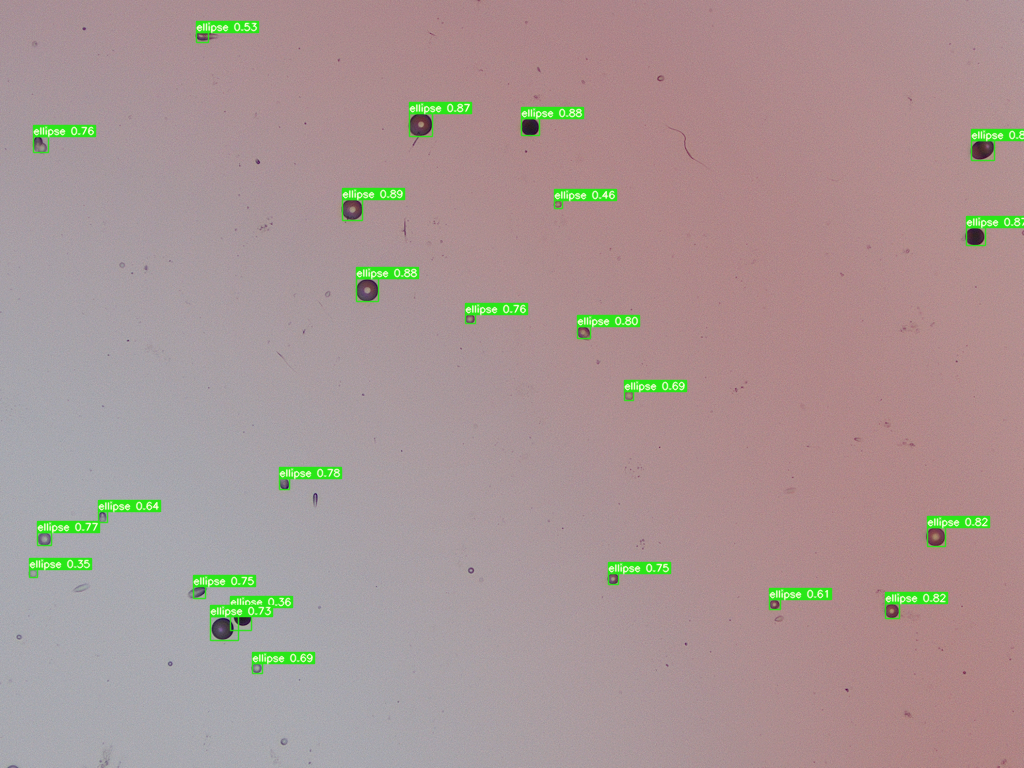circle: (408, 112, 431, 136), (355, 279, 377, 301), (212, 618, 232, 639), (342, 199, 362, 219), (926, 527, 944, 545), (233, 607, 251, 625), (966, 227, 983, 245), (521, 118, 538, 135), (884, 603, 898, 618), (37, 532, 51, 545), (607, 573, 618, 584), (623, 390, 634, 400), (769, 599, 779, 609), (251, 663, 261, 672), (465, 314, 474, 323), (28, 569, 37, 578)
ellipse: (195, 31, 219, 41), (187, 586, 206, 598), (577, 326, 590, 340), (73, 584, 90, 592), (279, 477, 289, 490), (312, 492, 319, 508), (98, 511, 106, 524), (553, 200, 562, 208)
